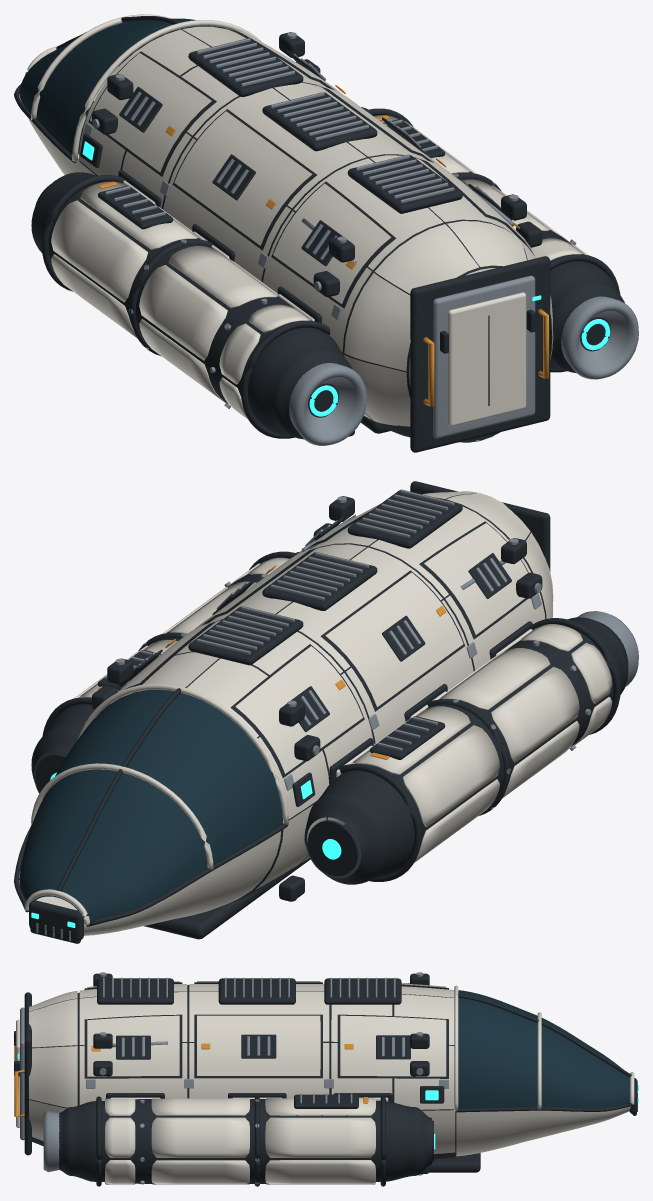
The model's file is spacecraft-mechanisms-lod1.glb.
3 renders of one model, top to bottom at view 1: azimuth 30°, elevation 25°; view 2: azimuth 150°, elevation 25°; view 3: azimuth 270°, elevation 25°, orthographic. The views are drawn at different scales.
Parts seen in each view (by area): view 1: Exterior_Hull_Ceramic_WarmWhite, Exterior_Hull_Structure_Graphite, Exterior_EnginePod_-1_Ceramic_WarmWhite, Exterior_EnginePod_-1_Structure_Graphite, Door_Outer, AftFrame_0, Exterior_Hull_Brushed_Titanium, Canopy_Glass, Exterior_EnginePod_1_Structure_Graphite, Exterior_EnginePod_-1_Brushed_Titanium, AftFrame_0.001, Exterior_EnginePod_1_Brushed_Titanium (+2 smaller); view 2: Exterior_Hull_Ceramic_WarmWhite, Canopy_Glass, Exterior_Hull_Structure_Graphite, Exterior_EnginePod_-1_Ceramic_WarmWhite, Exterior_EnginePod_-1_Structure_Graphite, Exterior_Hull_Brushed_Titanium, Exterior_EnginePod_1_Structure_Graphite, Exterior_EnginePod_1_Ceramic_WarmWhite, Exterior_EnginePod_-1_Brushed_Titanium, AftFrame_0; view 3: Exterior_Hull_Ceramic_WarmWhite, Exterior_EnginePod_1_Ceramic_WarmWhite, Exterior_Hull_Structure_Graphite, Canopy_Glass, Exterior_EnginePod_1_Structure_Graphite, Exterior_Hull_Brushed_Titanium, Exterior_EnginePod_1_Brushed_Titanium, AftFrame_0, AftFrame_0.001, Exterior_Hull_Maintenance_Amber.
Part boxes in pixels (left/top/right/bottom): Exterior_Hull_Ceramic_WarmWhite: left=25, top=14, right=553, bottom=426; Exterior_Hull_Structure_Graphite: left=14, top=16, right=552, bottom=442; Exterior_EnginePod_-1_Ceramic_WarmWhite: left=51, top=181, right=314, bottom=419; Exterior_EnginePod_-1_Structure_Graphite: left=31, top=172, right=352, bottom=439; Door_Outer: left=448, top=292, right=526, bottom=426; AftFrame_0: left=410, top=256, right=550, bottom=452; Exterior_Hull_Brushed_Titanium: left=83, top=32, right=539, bottom=320; Canopy_Glass: left=19, top=18, right=235, bottom=154; Exterior_EnginePod_1_Structure_Graphite: left=361, top=107, right=624, bottom=372; Exterior_EnginePod_-1_Brushed_Titanium: left=105, top=186, right=366, bottom=445; AftFrame_0.001: left=433, top=275, right=535, bottom=438; Exterior_EnginePod_1_Brushed_Titanium: left=384, top=119, right=638, bottom=379; Exterior_Hull_Ceramic_WarmWhite: left=24, top=491, right=553, bottom=935; Canopy_Glass: left=19, top=689, right=282, bottom=923; Exterior_Hull_Structure_Graphite: left=14, top=489, right=546, bottom=943; Exterior_EnginePod_-1_Ceramic_WarmWhite: left=352, top=624, right=612, bottom=862; Exterior_EnginePod_-1_Structure_Graphite: left=304, top=617, right=628, bottom=884; Exterior_Hull_Brushed_Titanium: left=36, top=489, right=541, bottom=940; Exterior_EnginePod_1_Structure_Graphite: left=31, top=551, right=298, bottom=793; Exterior_EnginePod_1_Ceramic_WarmWhite: left=74, top=557, right=289, bottom=698; Exterior_EnginePod_-1_Brushed_Titanium: left=377, top=611, right=638, bottom=809; AftFrame_0: left=410, top=481, right=550, bottom=571; Exterior_Hull_Ceramic_WarmWhite: left=29, top=981, right=634, bottom=1156; Exterior_EnginePod_1_Ceramic_WarmWhite: left=105, top=1098, right=375, bottom=1184; Exterior_Hull_Structure_Graphite: left=14, top=973, right=637, bottom=1173; Canopy_Glass: left=458, top=990, right=629, bottom=1108; Exterior_EnginePod_1_Structure_Graphite: left=59, top=1094, right=433, bottom=1186; Exterior_Hull_Brushed_Titanium: left=86, top=972, right=637, bottom=1175; Exterior_EnginePod_1_Brushed_Titanium: left=43, top=1093, right=352, bottom=1184; AftFrame_0: left=24, top=992, right=31, bottom=1155; AftFrame_0.001: left=20, top=1007, right=24, bottom=1140; Exterior_Hull_Maintenance_Amber: left=14, top=1043, right=353, bottom=1117.
Size of the model in its own units: 7.8 by 4.8 by 15.6.
